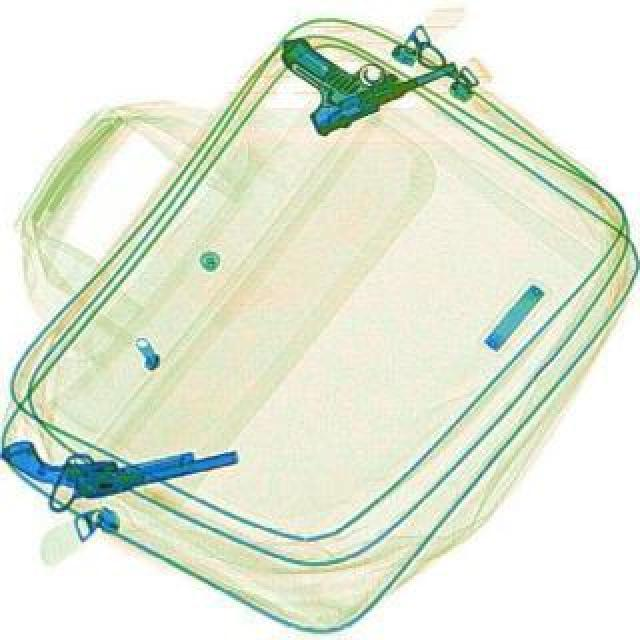gun: (0, 396, 238, 520), (272, 2, 440, 138)
